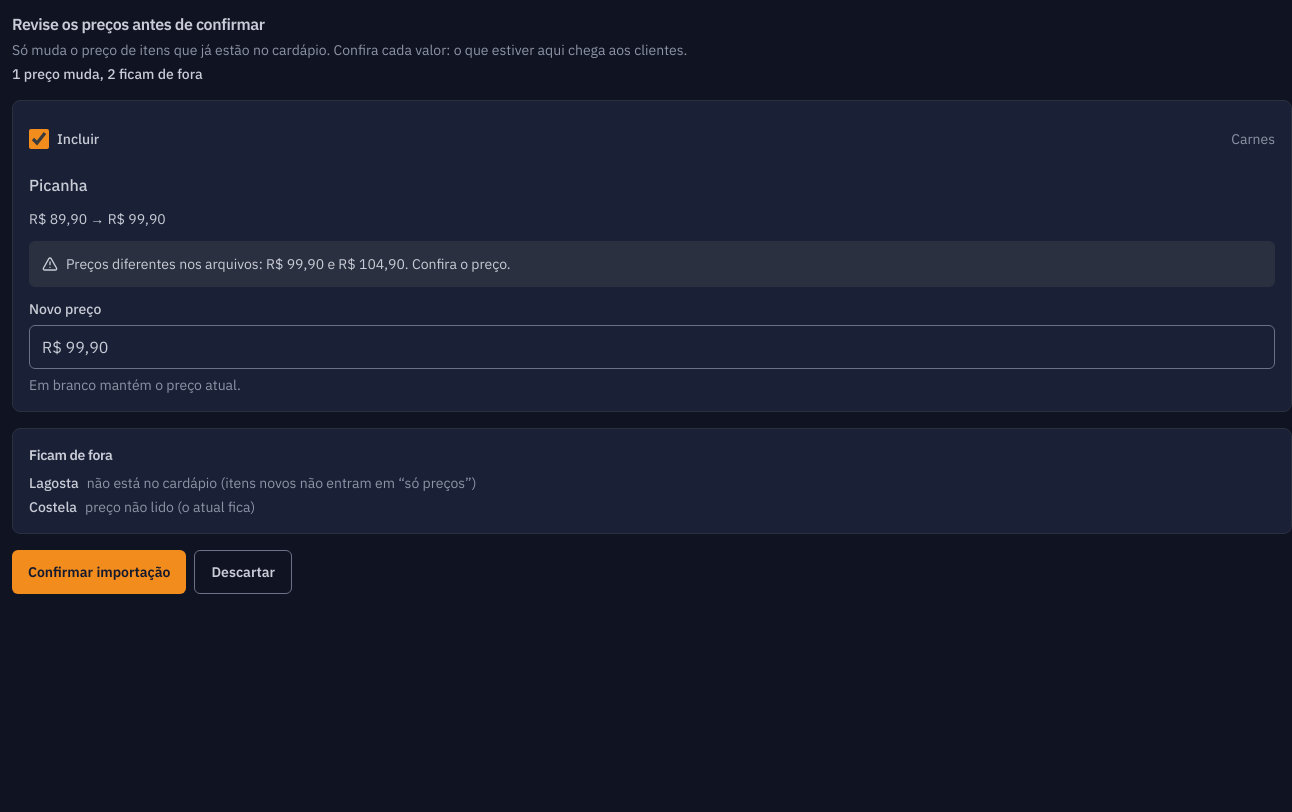
Test case: RevisaoSoPrecos › M4: o resumo conta os desmarcados e o preço editado de volta ao atual como "fica de fora"
Expected: the text "1 preço muda, 2 ficam de fora" is shown, [12, 65, 203, 83]
Step 1. Replace the text in the field labelled "Novo preço" with "8990" → (652, 347), box [29, 325, 1275, 369]
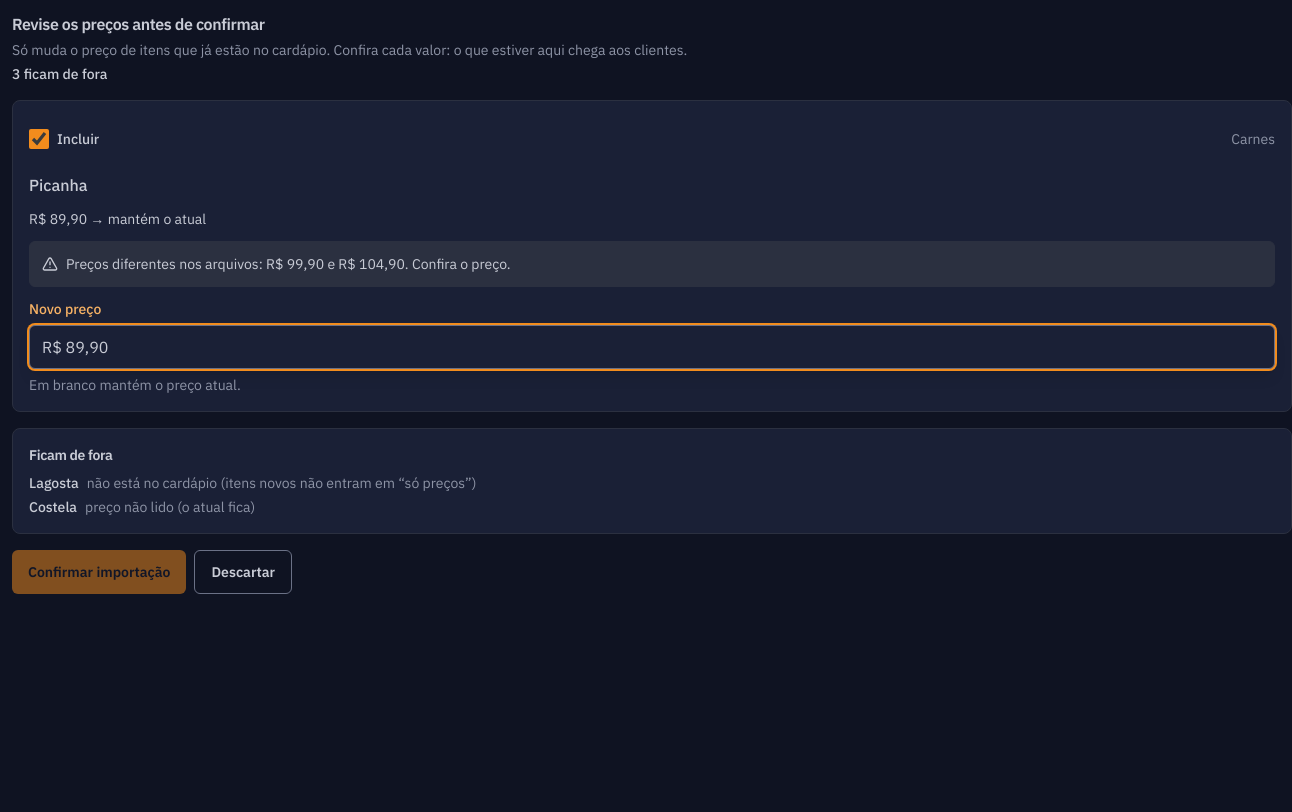
Expected: the text "3 ficam de fora" is shown, [12, 65, 108, 83]
Expected: the text "R$ 89,90 → mantém o atual" is shown, [29, 210, 206, 228]
Expected: the button "Confirmar importação" is disabled, [12, 550, 186, 594]
Step 2. Replace the text in the field labelled "Novo preço" with "9990" → (652, 347), box [29, 325, 1275, 369]
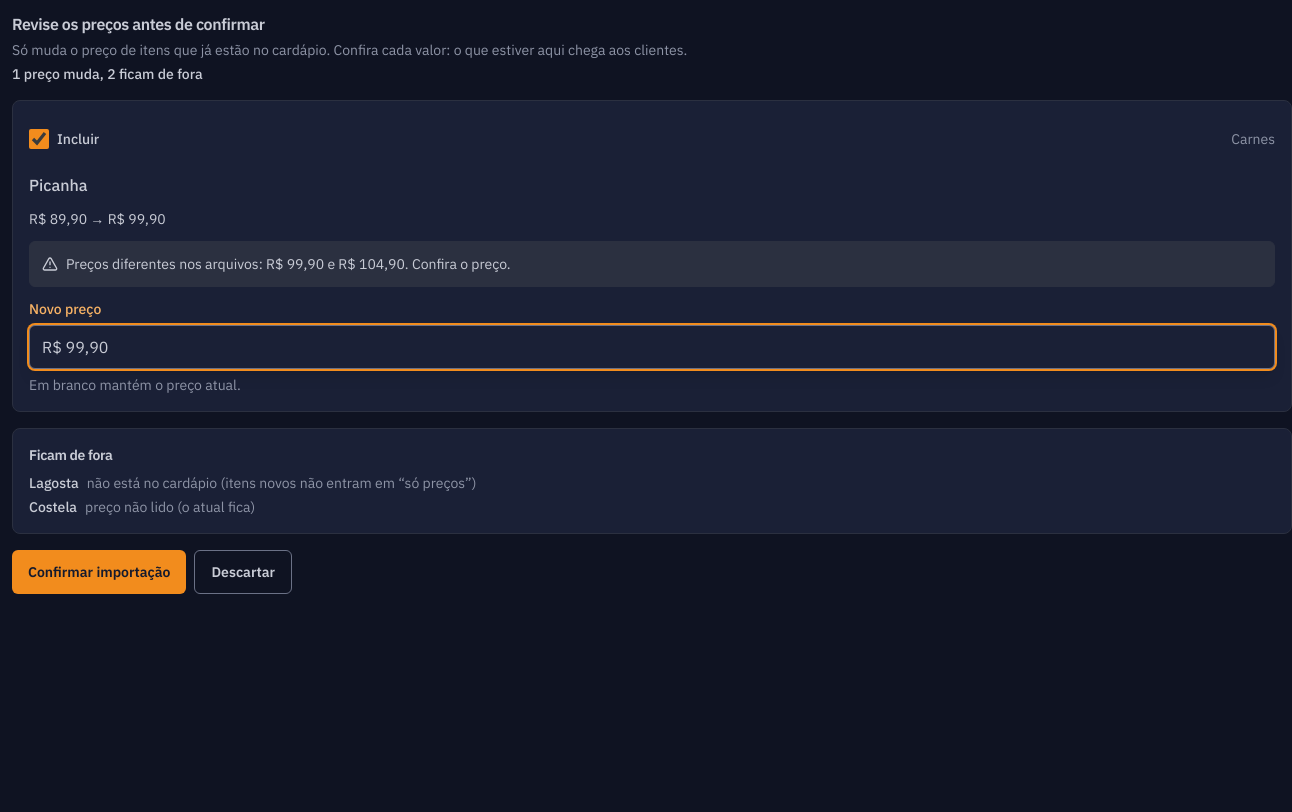
Step 3. Click the checkbox labelled "Incluir" → (39, 139), box [29, 129, 49, 149]
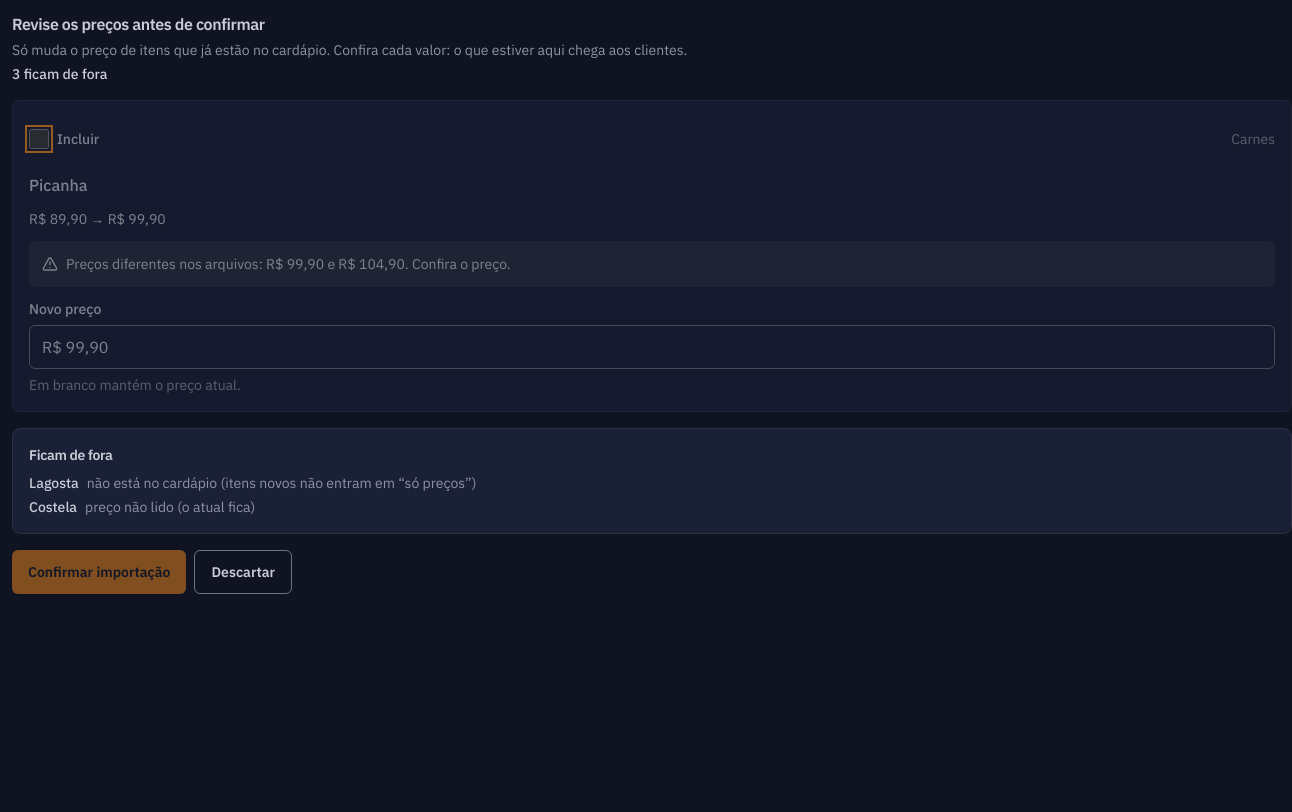
Expected: the text "3 ficam de fora" is shown, [12, 65, 108, 83]
